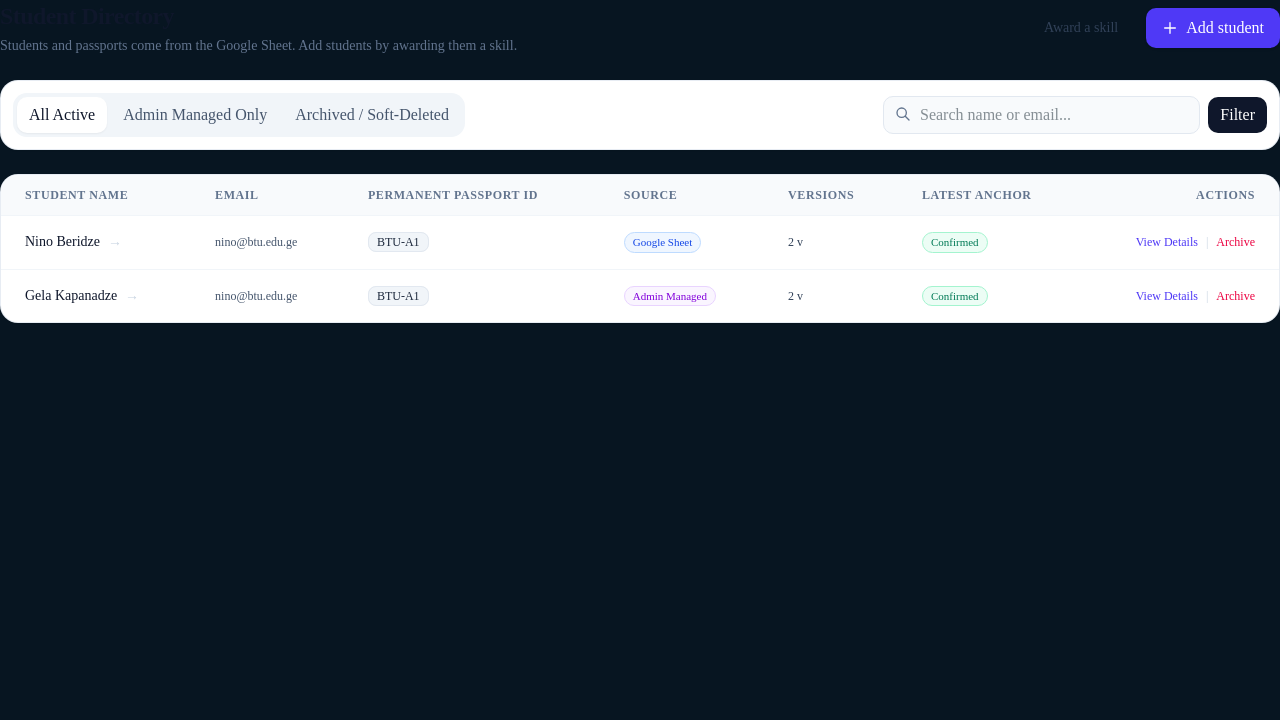
Test: student directory › tells the admin in an error toast when archiving fails
Expected: the link "Nino Beridze →" is shown, 25,234 -> 122,249
Click the button "Archive" in the row of "Nino Beridze" at (1236, 242), box 1216,234 -> 1255,250
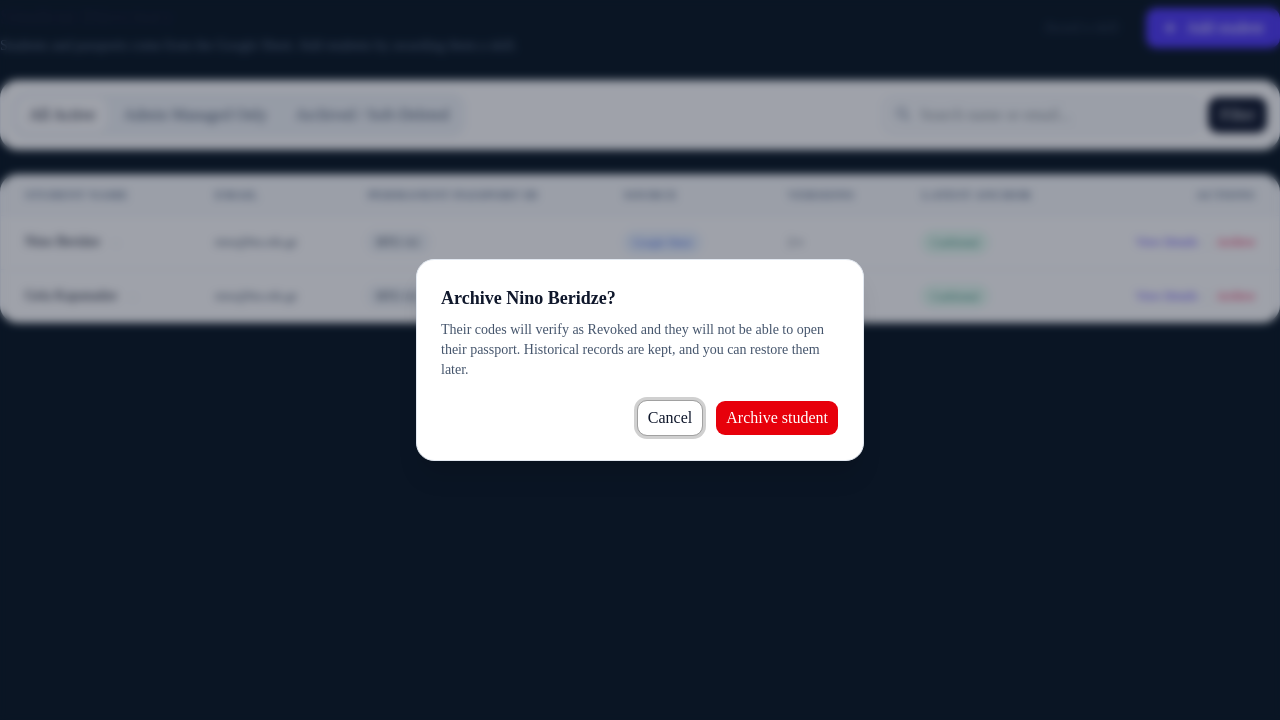
Click the button "Archive student" at (777, 418), box 715,400 -> 839,436
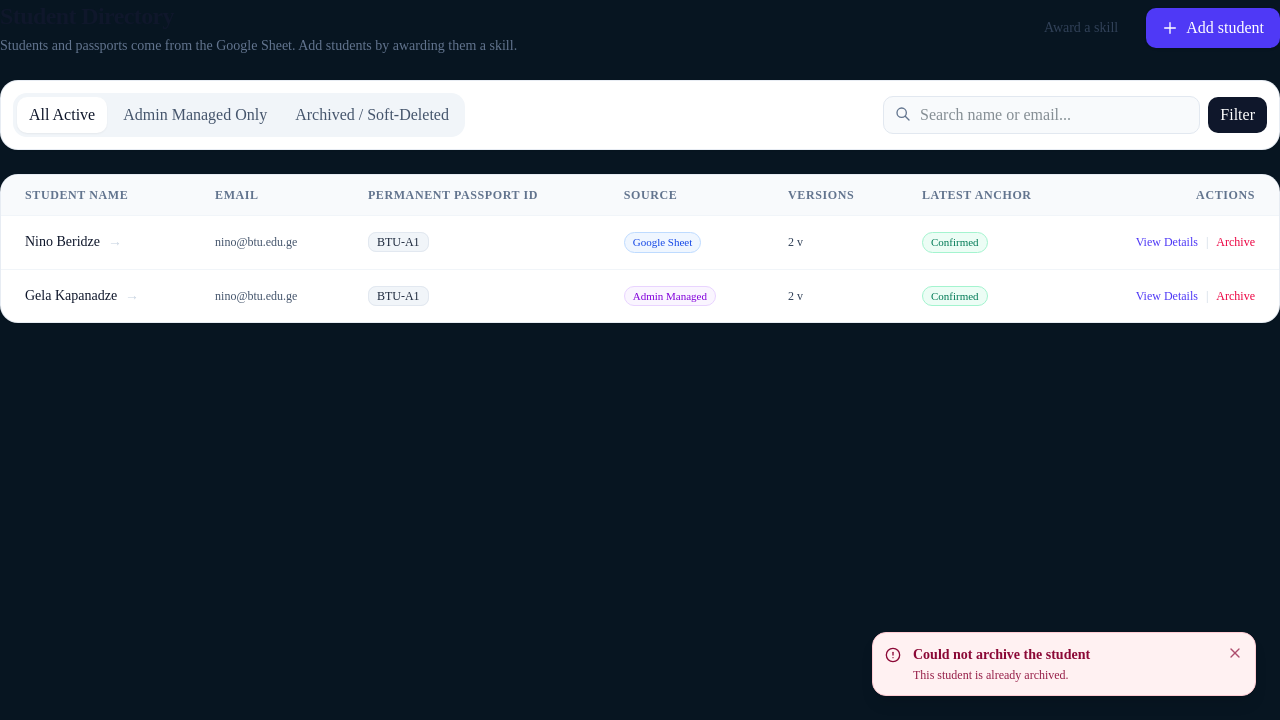
Expected: the text "This student is already archived." is shown, 913,668 -> 1069,682
Expected: the heading "Could not archive the student" is shown, 913,647 -> 1090,662
